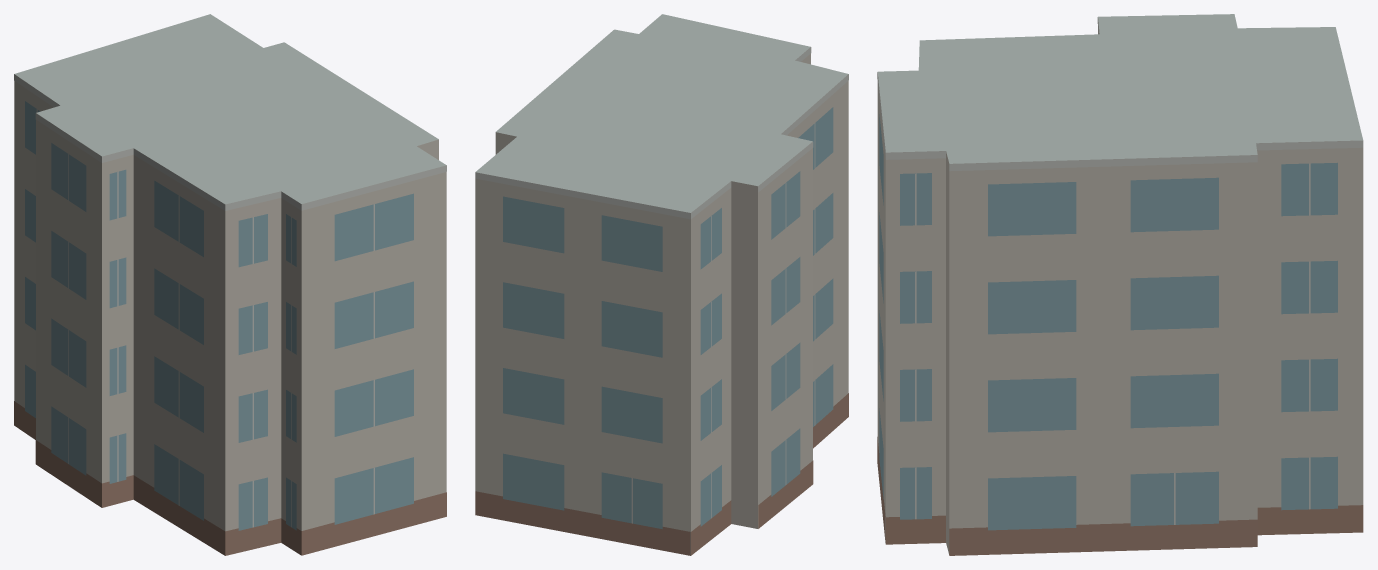
Rendered from survey-upis-32648431.glb.
3 views of the same model, side by side, from view 1: azimuth 30°, elevation 25°; view 2: azimuth 150°, elevation 25°; view 3: azimuth 270°, elevation 25° (orthographic). The views are drawn at different scales.
Parts seen in each view (by area): view 1: survey-upis-32648431.tmp; view 2: survey-upis-32648431.tmp; view 3: survey-upis-32648431.tmp.
Part boxes in pixels (<box>): survey-upis-32648431.tmp: <box>14,14,446,555</box>; survey-upis-32648431.tmp: <box>475,14,848,555</box>; survey-upis-32648431.tmp: <box>877,14,1363,555</box>.
Bounding box in the file's own units: 10.75 × 13.1 × 14.72.
